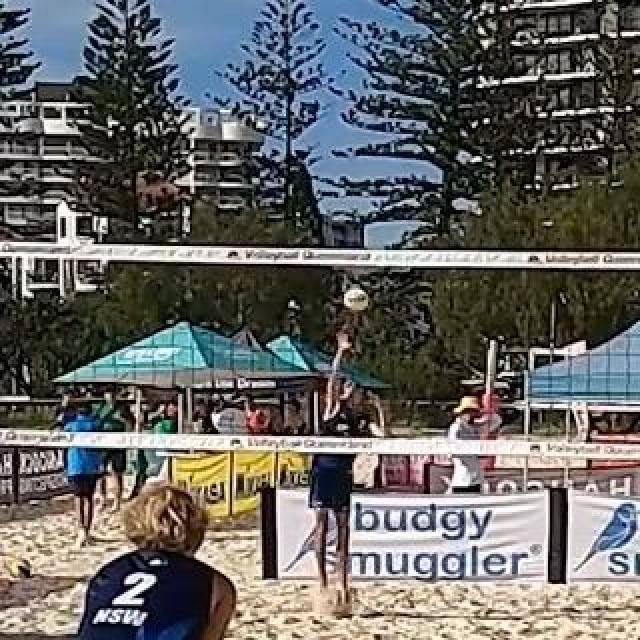volleyball: (345, 287, 369, 311), (10, 561, 32, 579)
